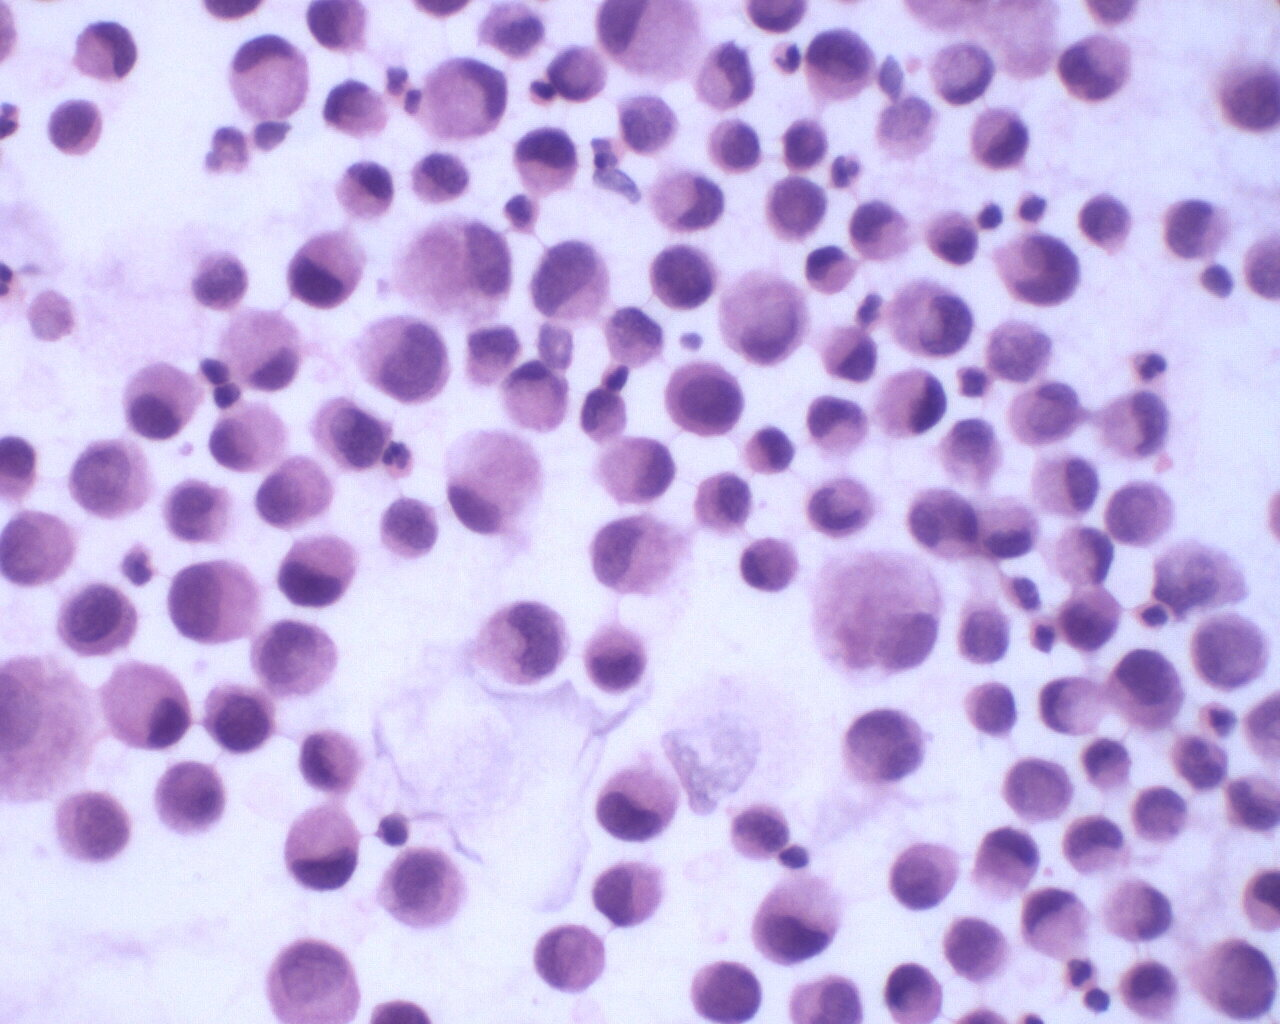ab: (353, 312, 459, 408), (839, 705, 935, 794), (1106, 645, 1195, 736), (527, 239, 618, 329), (1186, 937, 1278, 1024), (65, 432, 152, 523), (52, 580, 144, 661), (664, 355, 748, 442), (45, 791, 136, 870), (1187, 609, 1271, 694), (150, 758, 235, 839), (887, 830, 961, 918), (199, 679, 283, 757), (1000, 376, 1085, 453), (530, 920, 612, 996), (310, 393, 389, 472), (643, 240, 720, 318), (800, 27, 878, 103), (1053, 580, 1126, 659), (1102, 470, 1177, 548), (1159, 188, 1234, 263), (688, 955, 768, 1024), (1000, 753, 1075, 827), (764, 174, 835, 247), (941, 916, 1008, 984), (1128, 778, 1191, 850), (44, 92, 111, 158), (956, 682, 1026, 740), (552, 41, 610, 107), (1073, 187, 1130, 255), (707, 113, 764, 178)
histo: (807, 537, 944, 679), (443, 423, 549, 542), (98, 659, 197, 758), (277, 796, 367, 897), (417, 48, 511, 143), (219, 27, 309, 122), (867, 360, 951, 447), (1019, 885, 1106, 962), (495, 359, 574, 438)
meso: (116, 356, 205, 446)
neutro: (380, 437, 415, 484), (1128, 347, 1168, 385)
